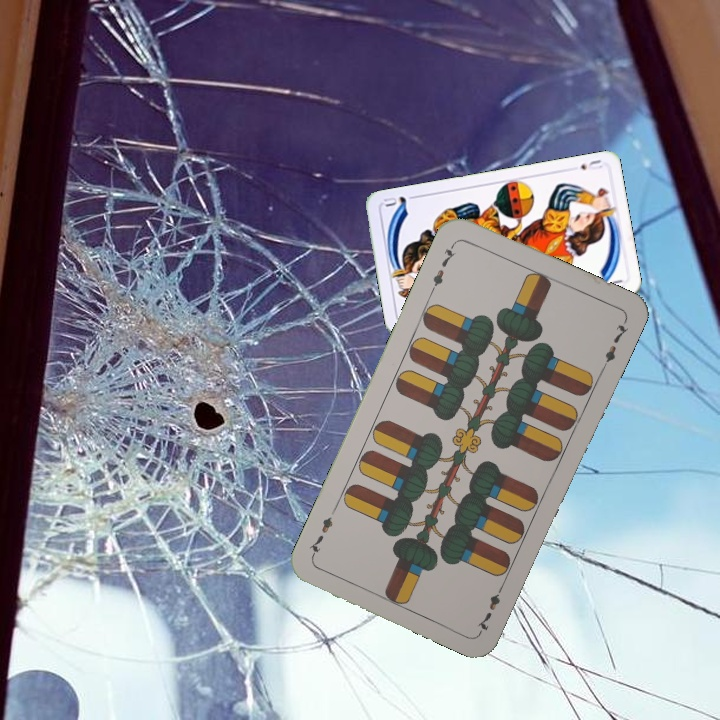E7: (473, 579, 508, 634), (427, 238, 459, 294)
SU: (576, 155, 605, 173)
